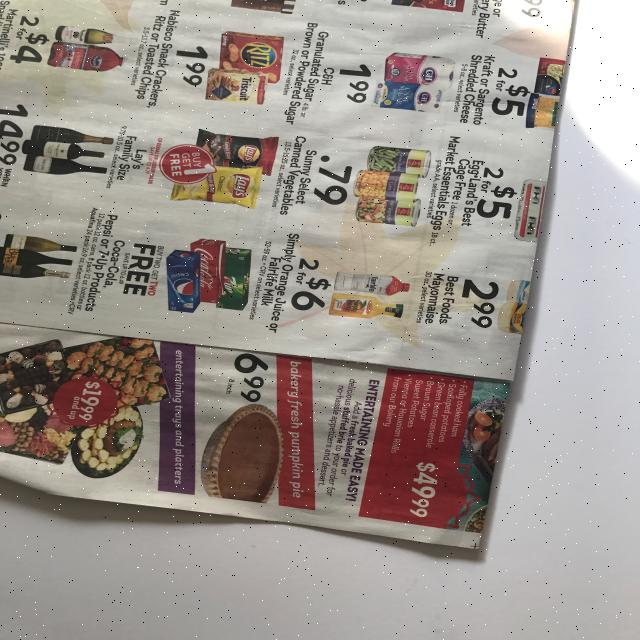paper: (1, 0, 576, 550)
